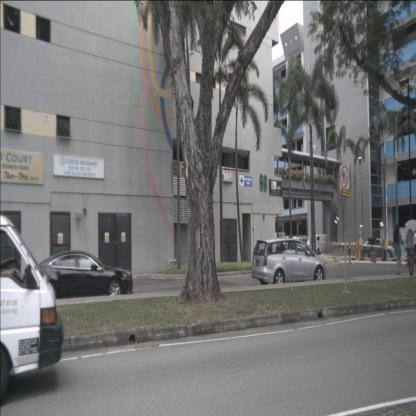human-pedestrian-adult: (405, 219, 416, 277), (393, 224, 404, 275), (411, 229, 416, 267)
vehicle-car: (0, 215, 64, 401), (24, 250, 134, 306), (251, 237, 327, 288), (361, 238, 397, 260), (307, 234, 329, 255)
